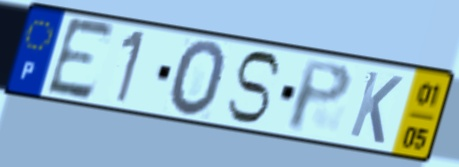1: (114, 29, 148, 106)
E: (43, 15, 119, 103)
K: (345, 68, 406, 147)
O: (166, 37, 229, 119)
P: (285, 57, 355, 136)
S: (223, 48, 284, 126)
